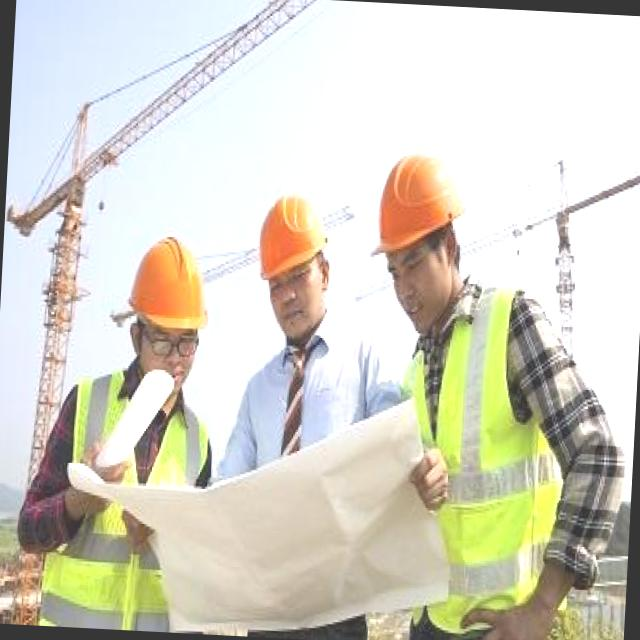helmet: (377, 146, 482, 256), (124, 228, 220, 342), (256, 190, 331, 286)
no-goggles: (262, 248, 324, 316), (133, 318, 200, 363), (382, 244, 448, 287)
vest: (397, 311, 549, 640), (53, 375, 194, 633)
